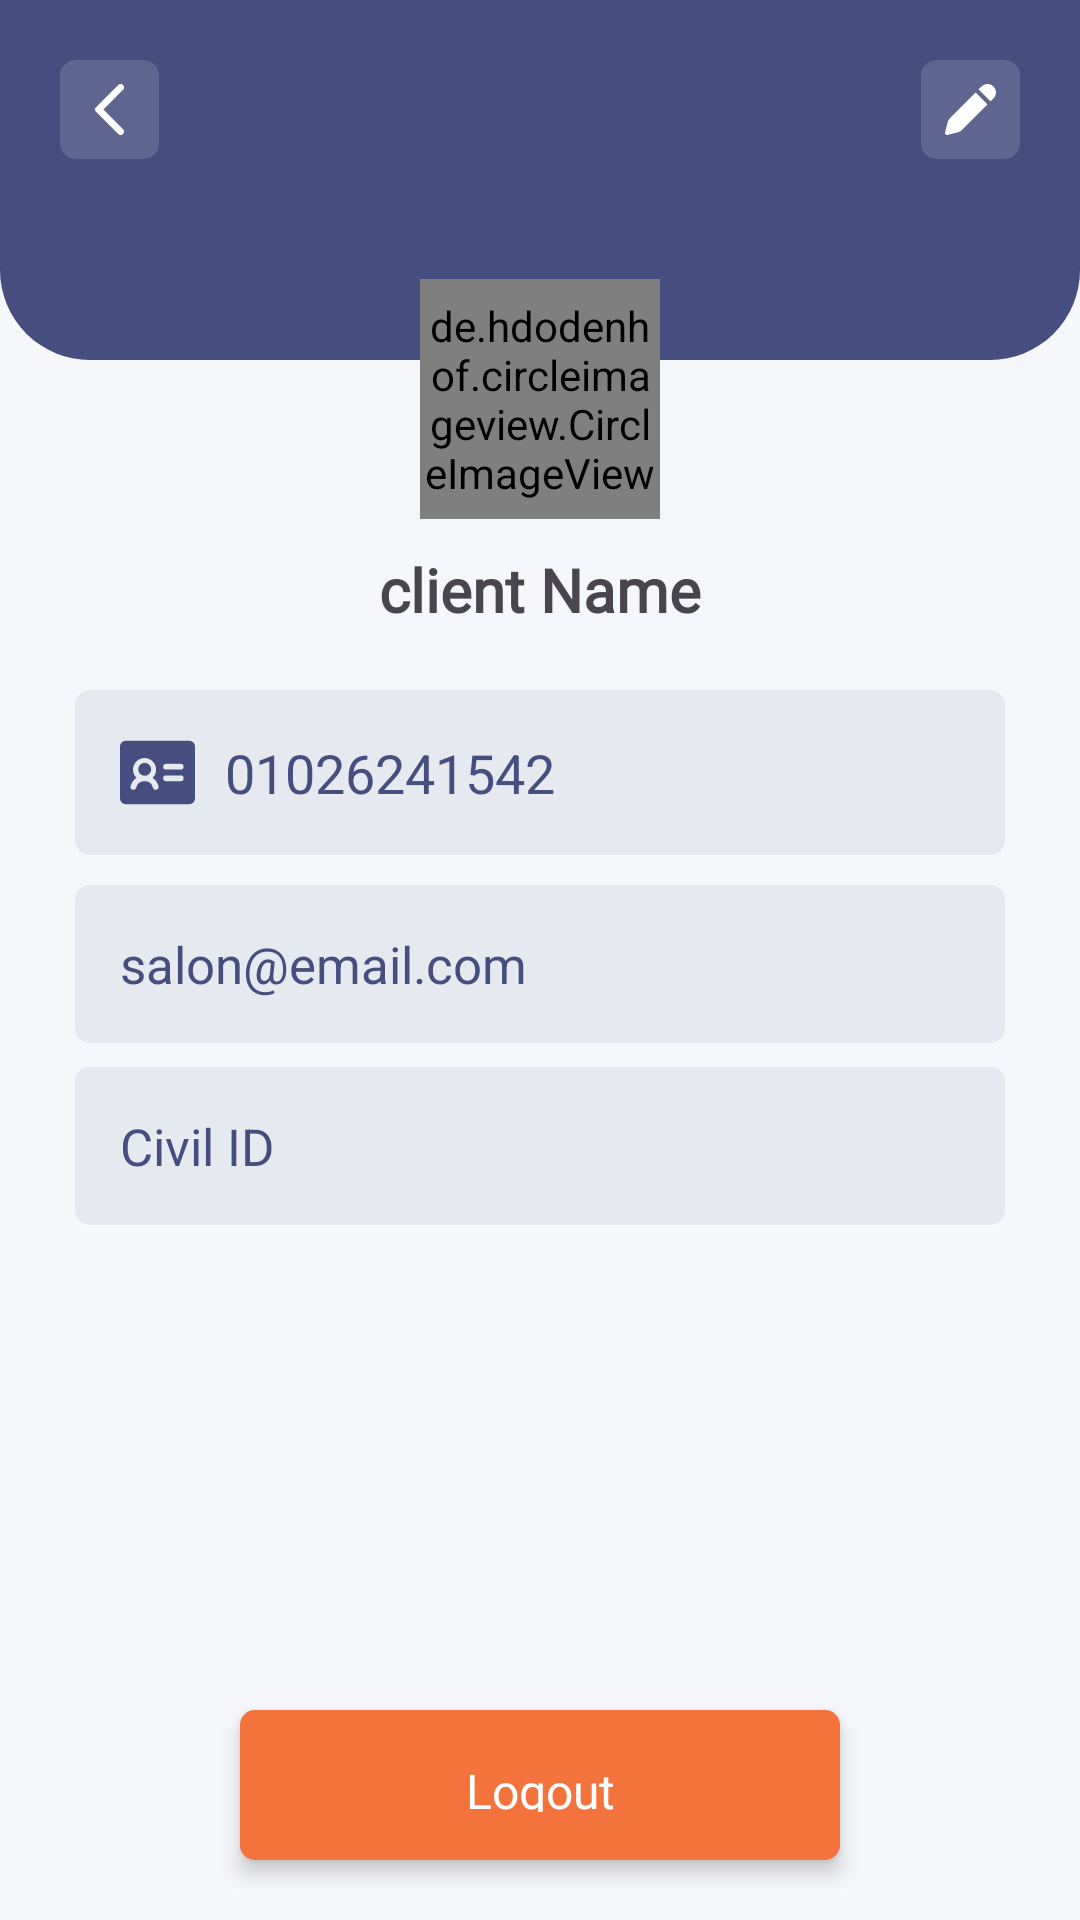

Icons on this 1080 x 1920 Android screen, each with its box as (x1, y1, x2, y2):
back: (60, 60, 159, 159)
edit: (921, 60, 1020, 159)
